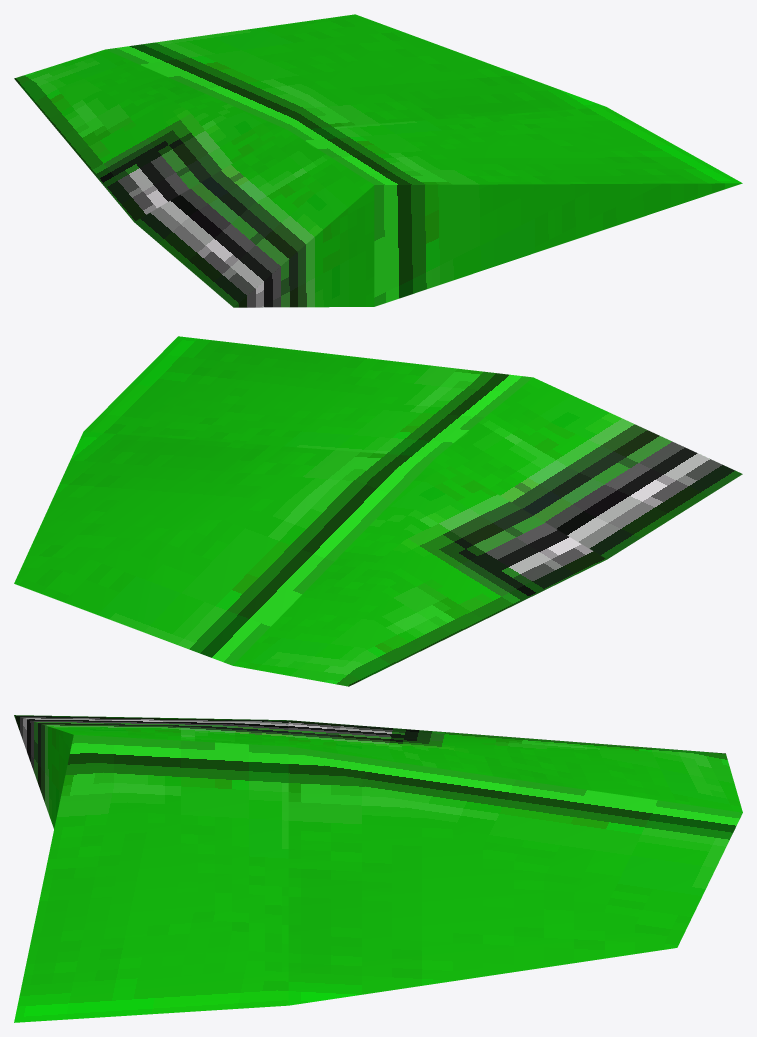
The model's file is WingLeft.obj.
The picture shows the model from 3 angles, top to bottom: view 1: azimuth 30°, elevation 25°; view 2: azimuth 150°, elevation 25°; view 3: azimuth 270°, elevation 25°; orthographic projection. The views are drawn at different scales.
Size of the model in its own units: 11.26 by 2.57 by 11.27.
1 material, 1 textured.
